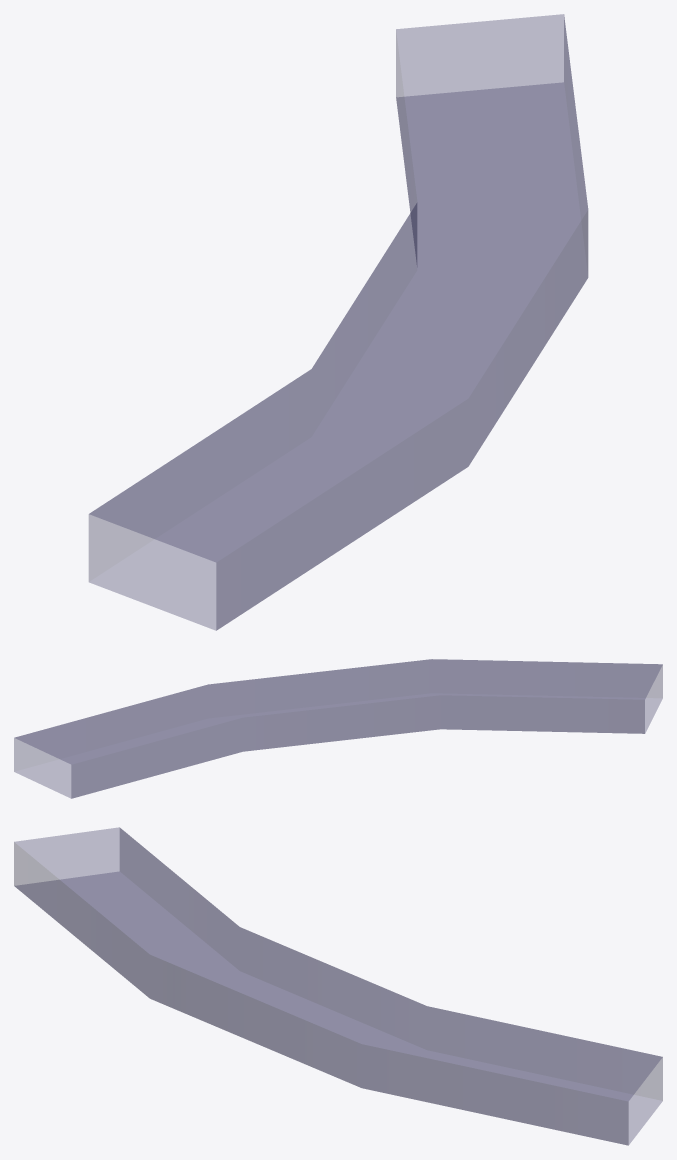
The picture shows the model from 3 angles, top to bottom: view 1: azimuth 30°, elevation 25°; view 2: azimuth 150°, elevation 25°; view 3: azimuth 270°, elevation 25°; orthographic projection. The views are drawn at different scales.
Parts seen in each view (by area): view 1: pPipe1; view 2: pPipe1; view 3: pPipe1.
Part boxes in pixels (box(x1,y1,x2,y2)): pPipe1: box(89, 14, 588, 630); pPipe1: box(14, 659, 662, 798); pPipe1: box(14, 827, 662, 1145).
Size of the model in its own units: 13.33 by 1 by 13.33.
